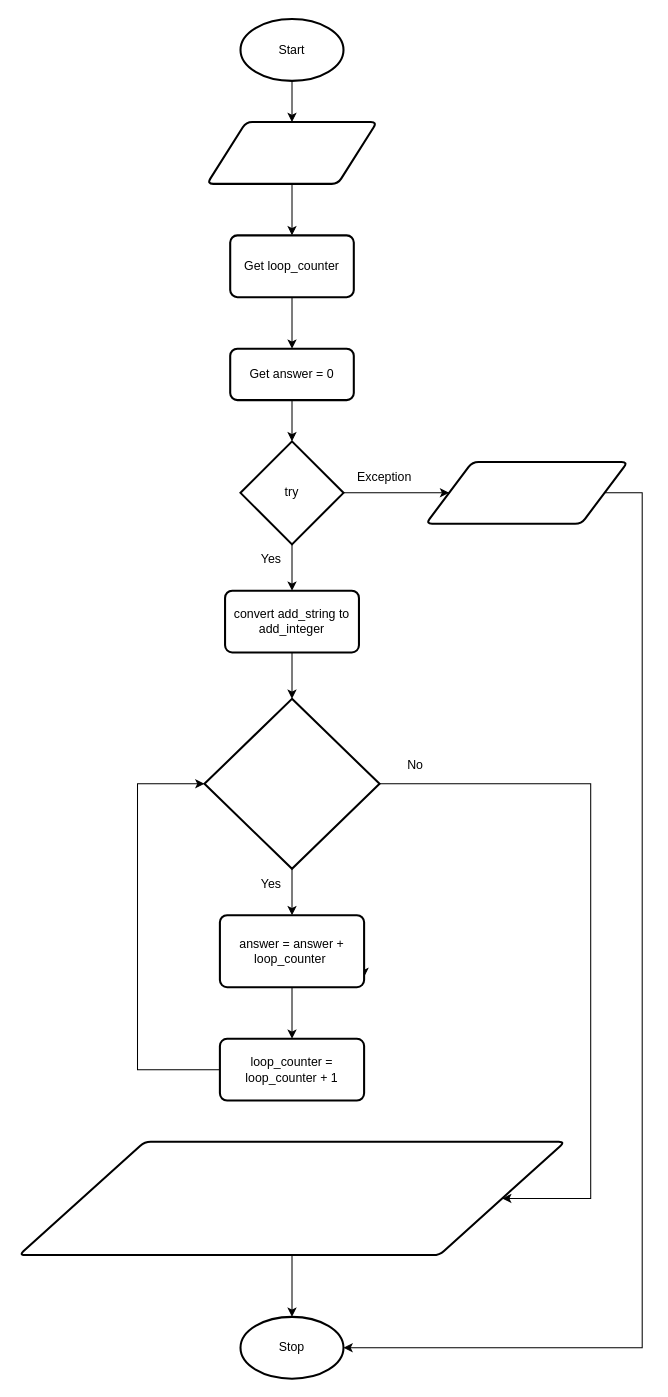
Some shapes in this 668 by 1397 pixel diagram are drawn without their labels. The shapes that lost their labels are listed below. From the top down, each one's centre as x and y in pixels, then its label:
[291,152]: Get add_string
[526,492]: Print "Invalid number!"
[291,783]: While loop_counter <= add_integer
[291,1198]: Print "The sum of all positive integers from 1 to add_string is answer."
